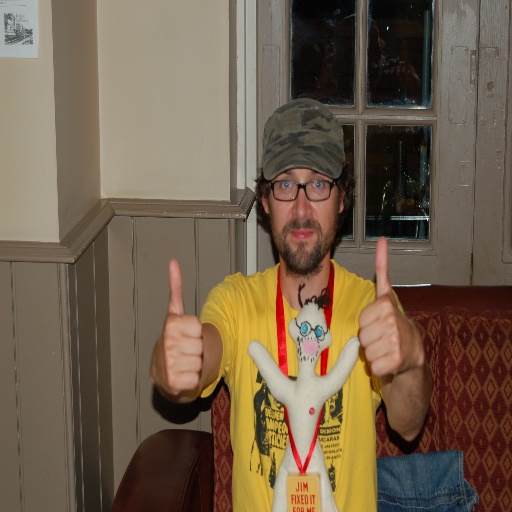hand: (358, 231, 420, 376), (146, 287, 211, 395)
